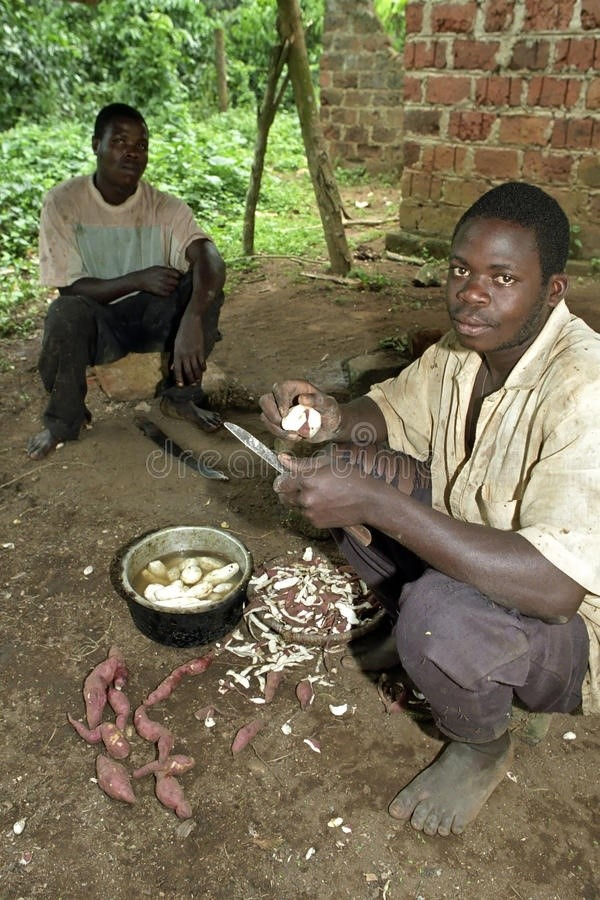face_no_mask: (444, 183, 572, 349), (87, 105, 149, 184)
